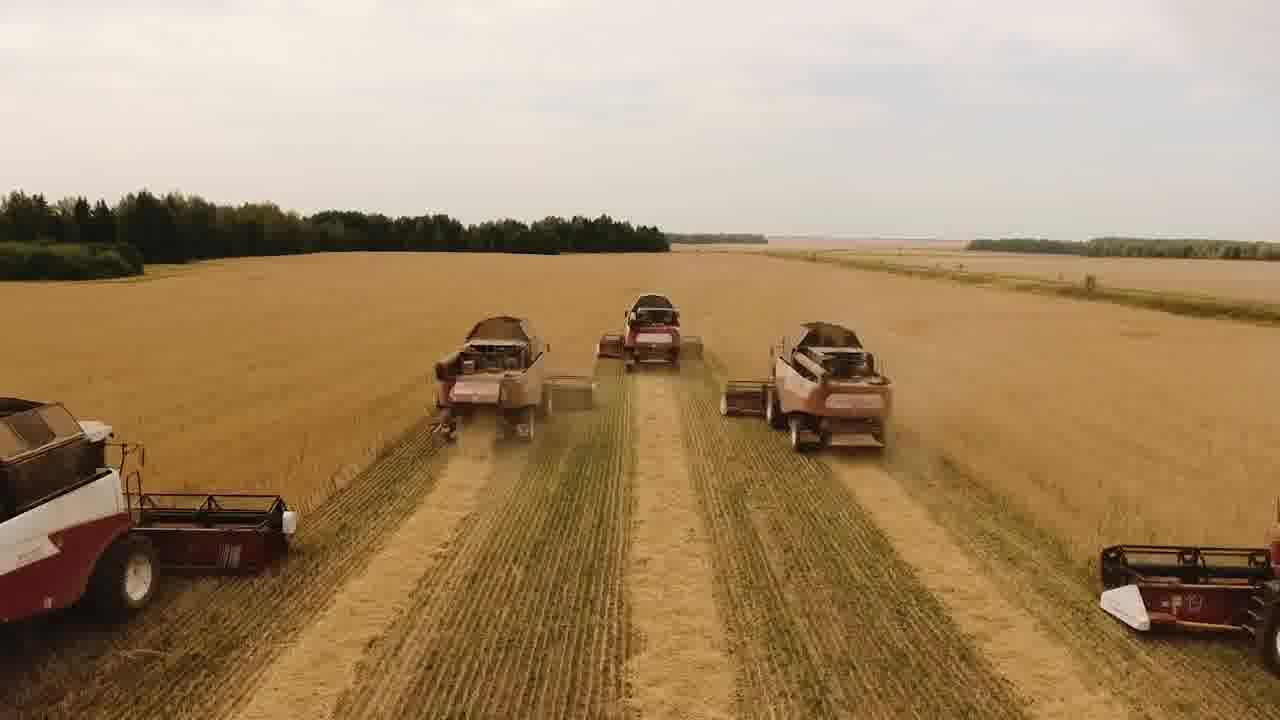combine harvester: (0, 391, 303, 657), (1086, 489, 1280, 677), (712, 316, 900, 462), (426, 309, 593, 441), (593, 288, 707, 380)
